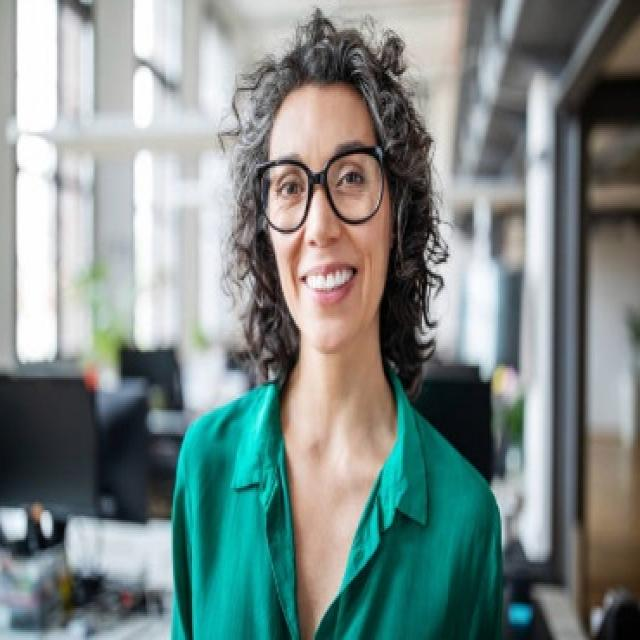adult: (166, 6, 503, 640)
